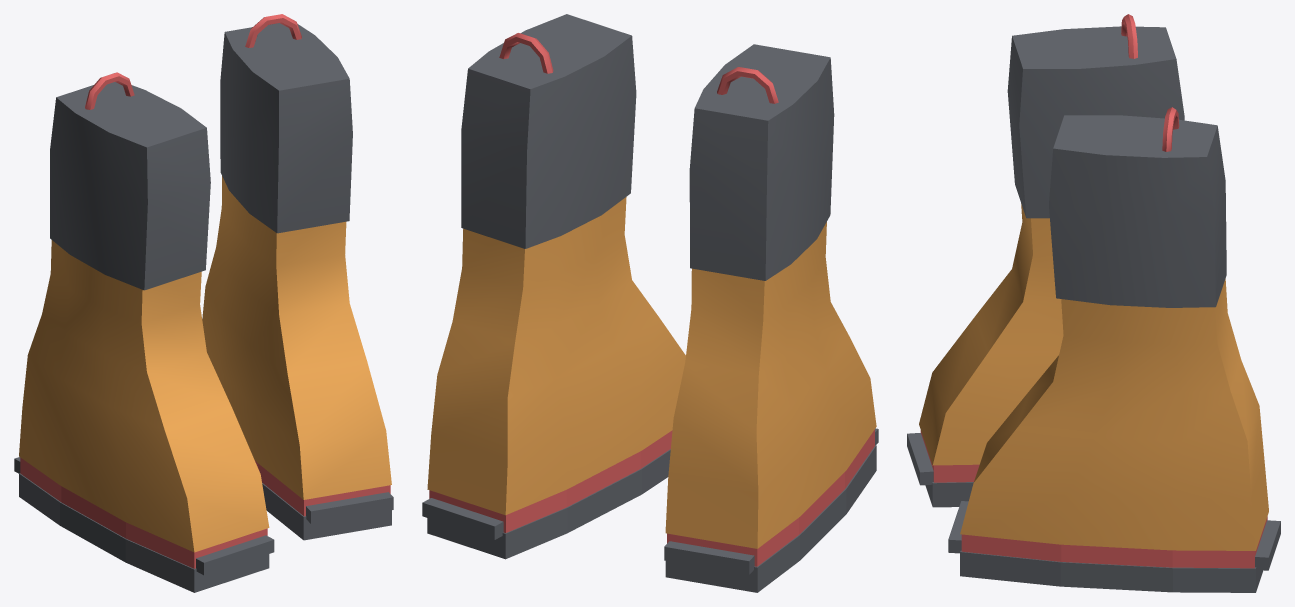
File: mountaineering-and-summit-expedition-double-boots-1795f6d9__18821.glb
3 views of the same model, side by side, from view 1: azimuth 30°, elevation 25°; view 2: azimuth 150°, elevation 25°; view 3: azimuth 270°, elevation 25° (orthographic). The views are drawn at different scales.
Parts seen in each view (by area): view 1: double-boots; view 2: double-boots; view 3: double-boots.
Part boxes in pixels (box(x1,y1,x2,y2)): double-boots: box(14, 14, 393, 592); double-boots: box(422, 14, 878, 592); double-boots: box(907, 14, 1280, 592).
Size of the model in its own units: 0.3302 by 0.4895 by 0.3631.
